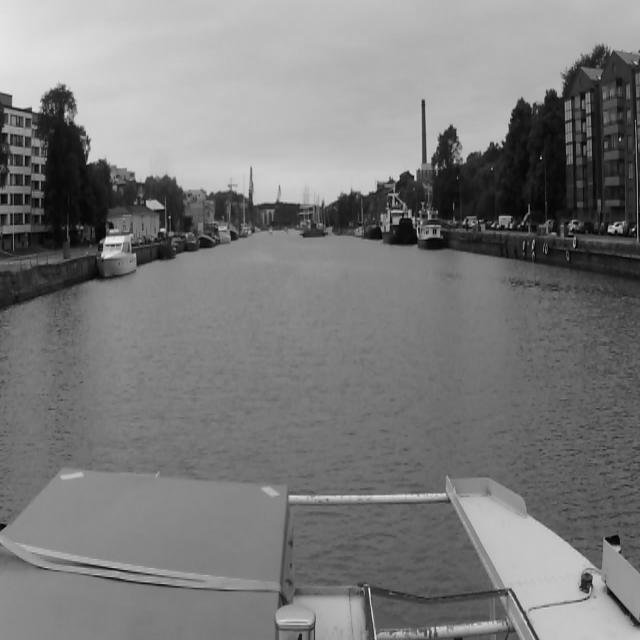ship: (98, 234, 138, 278), (381, 207, 416, 244), (417, 220, 443, 247), (160, 241, 176, 258), (202, 231, 216, 248), (302, 228, 324, 238), (218, 226, 230, 242), (186, 237, 200, 250)
